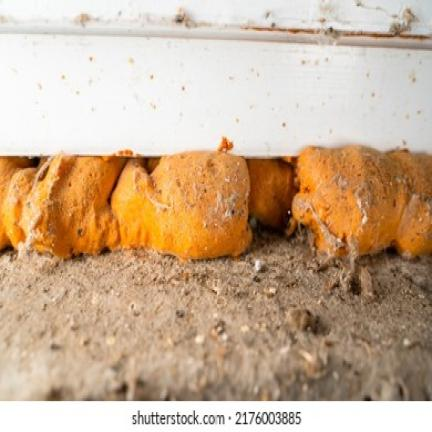besi_tidak_karat: (0, 0, 431, 157)
karat: (293, 146, 431, 257), (111, 152, 252, 259), (12, 155, 126, 257), (248, 159, 295, 234), (0, 158, 33, 249)
